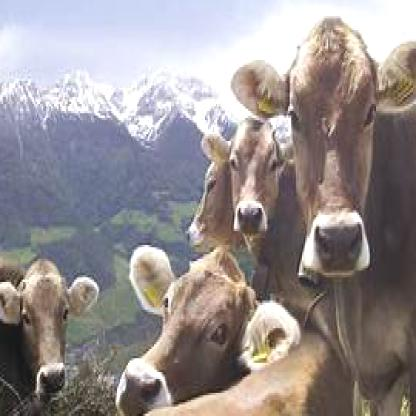cow: (230, 14, 414, 414), (116, 245, 302, 414), (0, 240, 103, 414), (200, 115, 302, 280), (186, 159, 236, 252)
